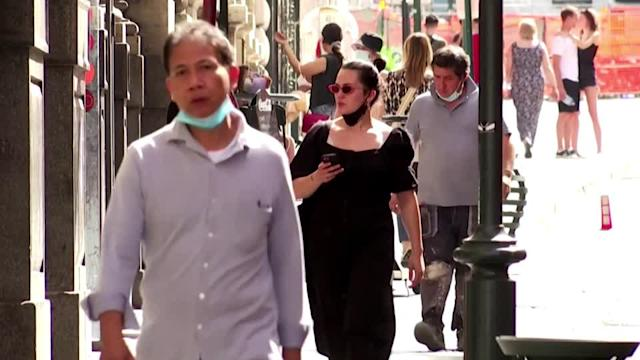with_incorrect_mask: (170, 59, 227, 125), (433, 69, 461, 99)
without_mask: (336, 77, 362, 111)
